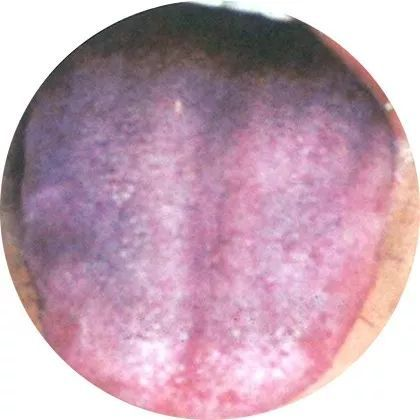baitaishe: (20, 26, 394, 420)
zishe: (20, 26, 394, 420)
